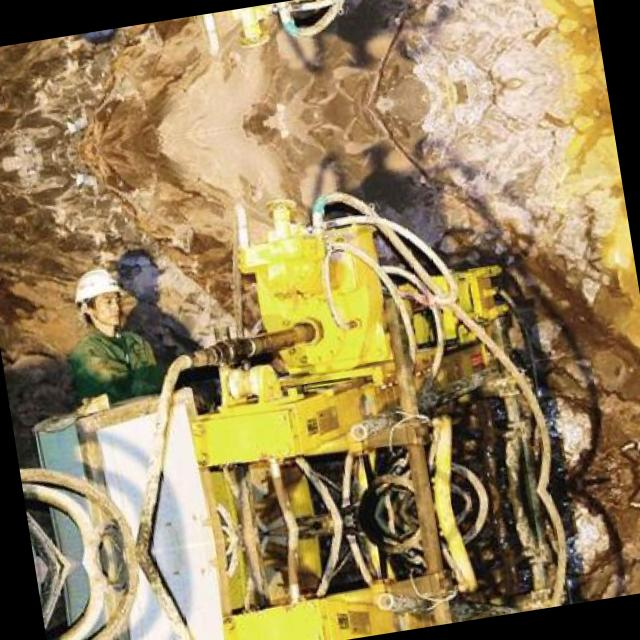helmet: (66, 262, 134, 338)
